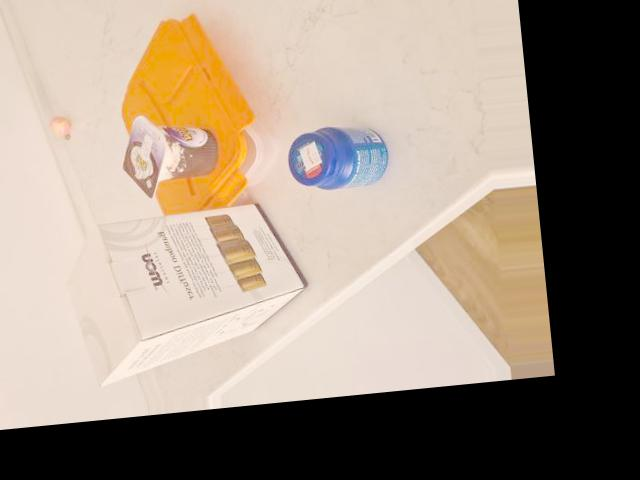milky: (111, 104, 224, 205)
